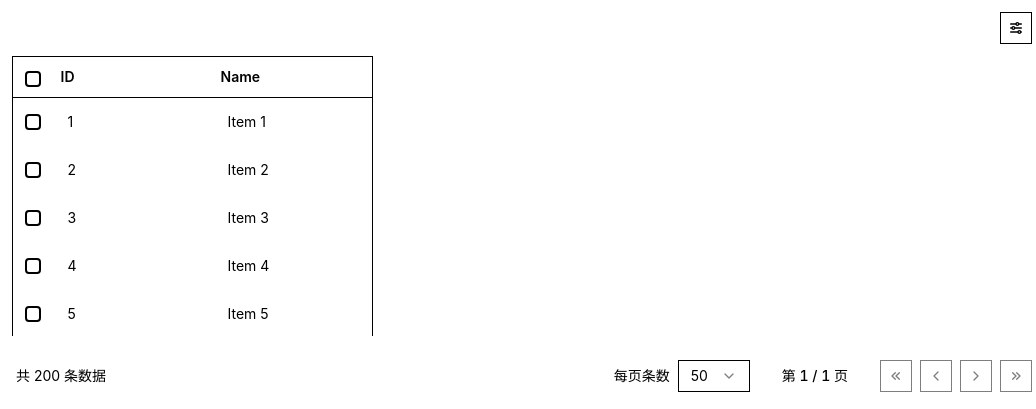
DataTable body › avoids filtered selected row model work and keeps implicit selection summaries page-scoped
Click the checkbox named "选择行" in the row of "Item 1" at (32, 122), box [12,104,52,140]
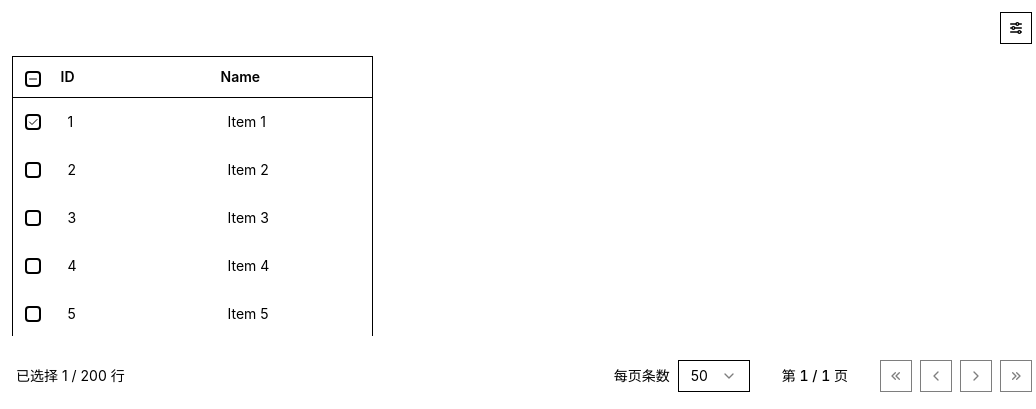
expect the text "已选择 1 / 200 行" is shown: met, box [16,366,125,386]
